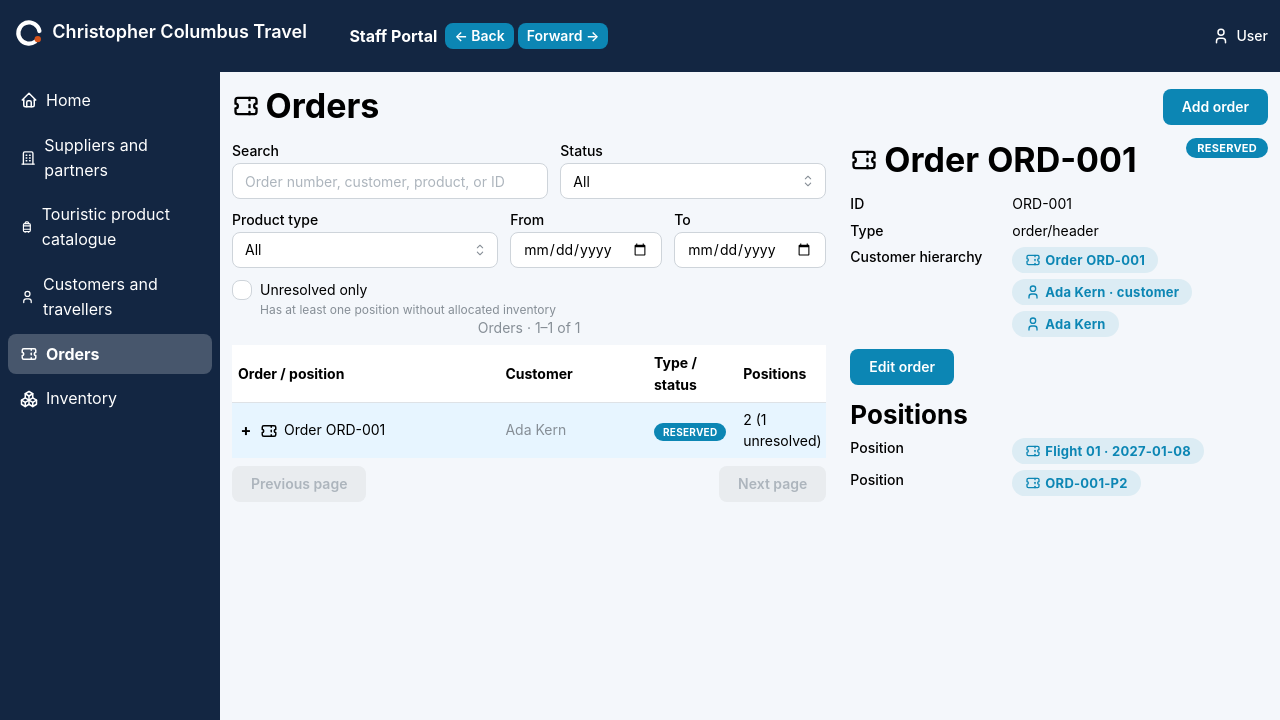
Scenario: OrdersRoute › opens a position's own detail in the right pane when its tree row is selected
Click the button named "expand order ORD-001".
click(246, 431)  # box [238,418,254,443]
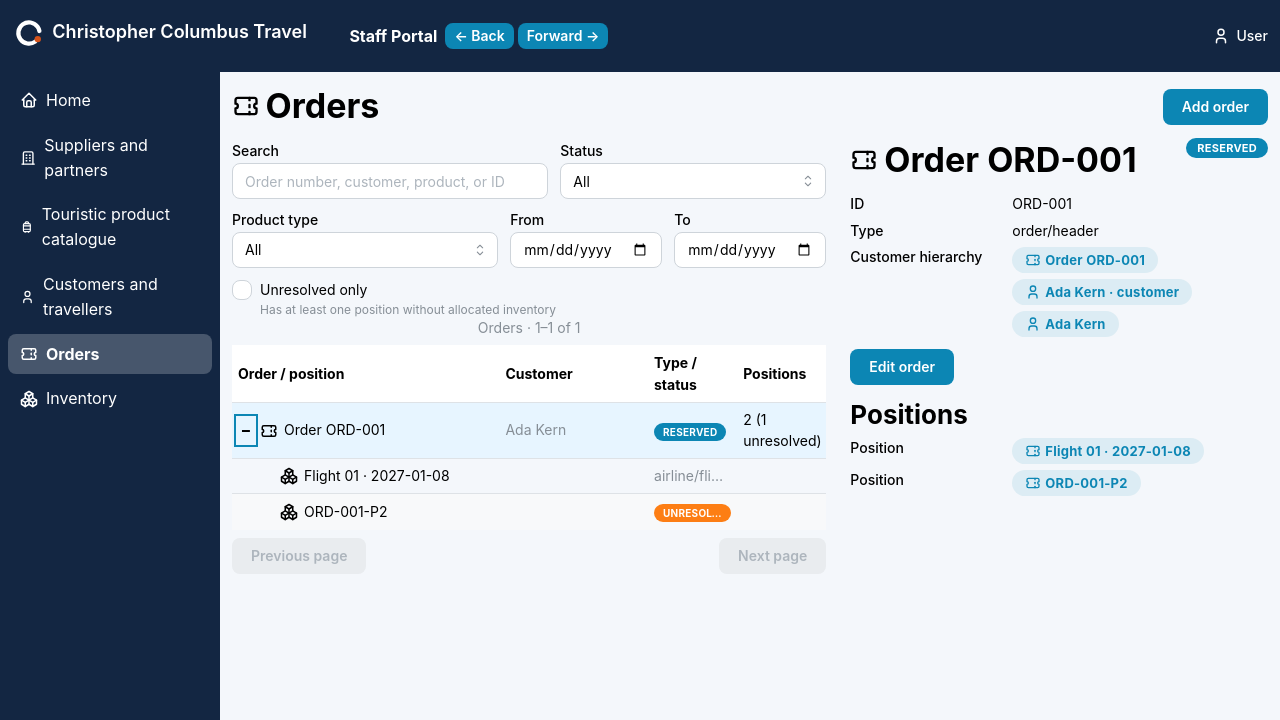
Click the text "Flight 01 · 2027-01-08".
click(377, 476)  # box [304,466,450,486]
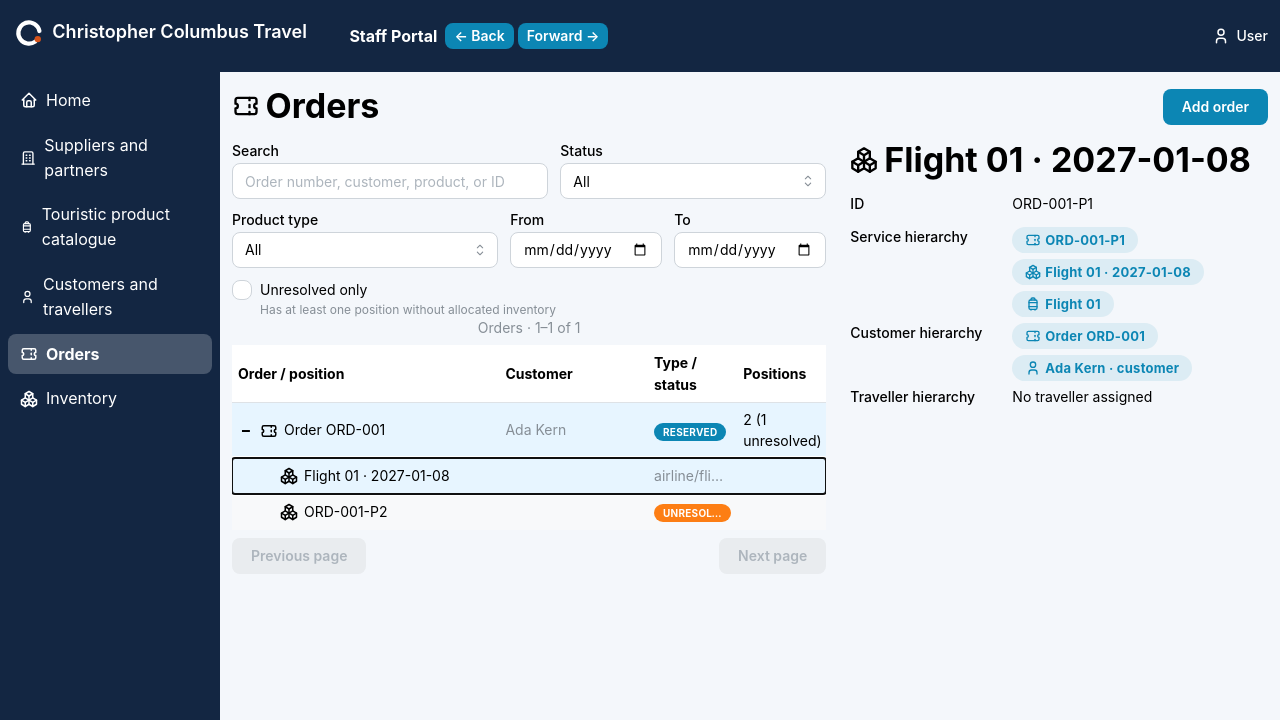
Check: the heading "Flight 01 · 2027-01-08" is shown, box [884,138,1251,182]
